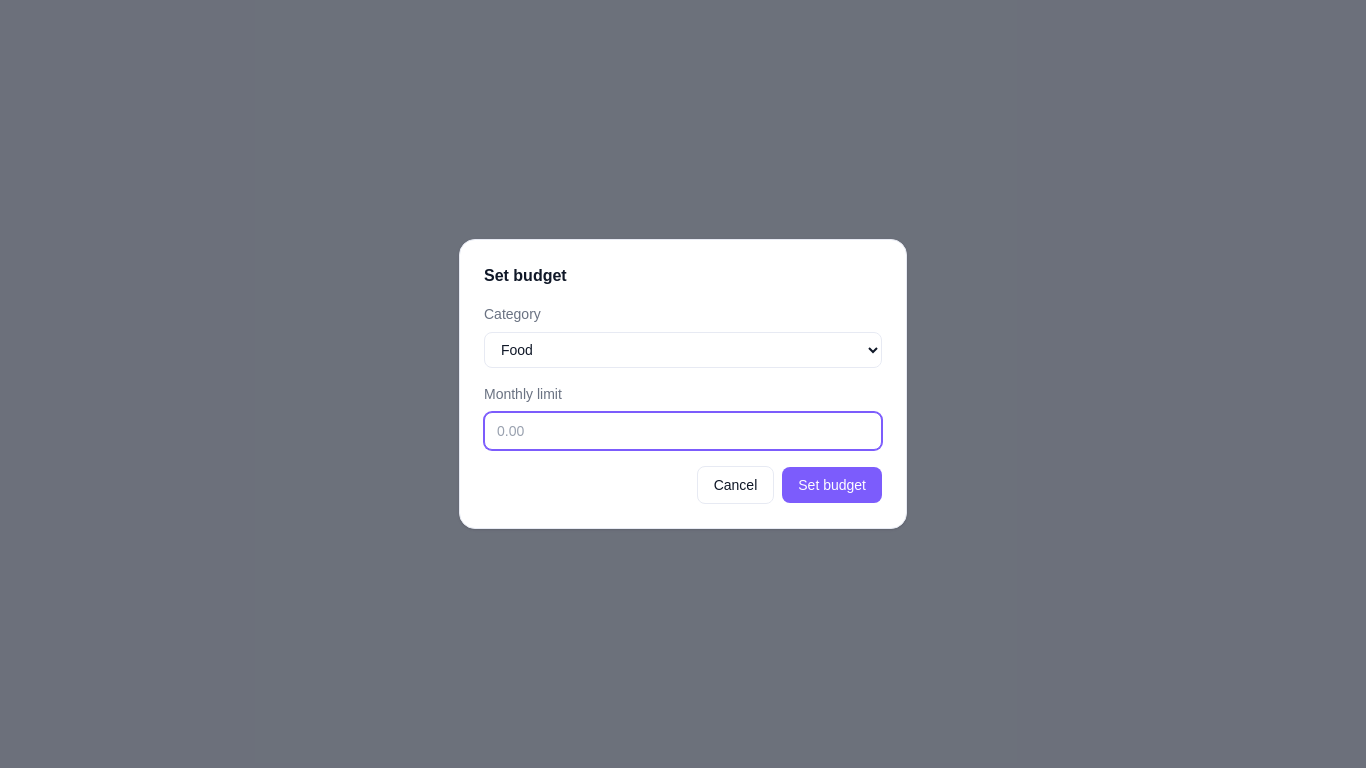
BudgetForm › shows server errors without closing
Type "100" into the field labelled "Monthly limit".
click(683, 431); type("100")  # box [484,412,882,450]
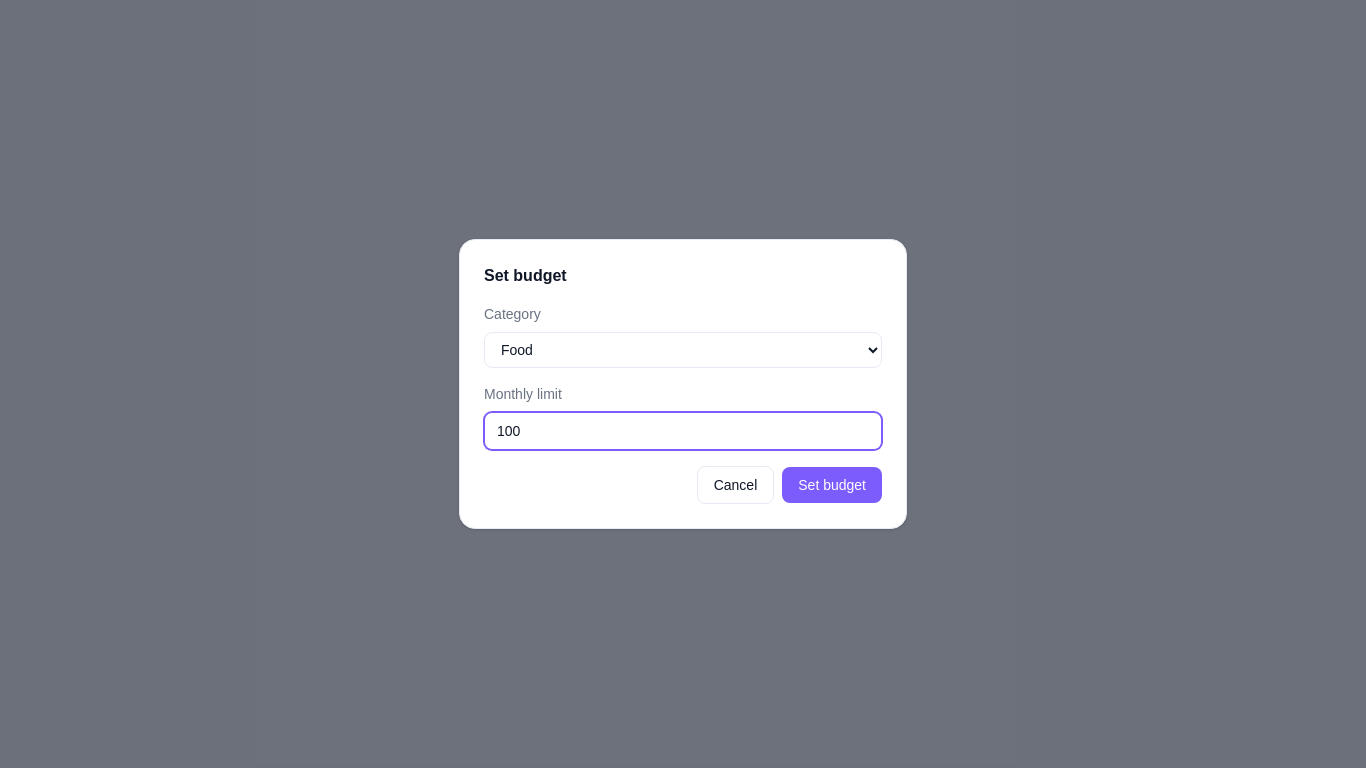
Click the button "Set budget".
click(832, 485)  # box [782,467,882,503]
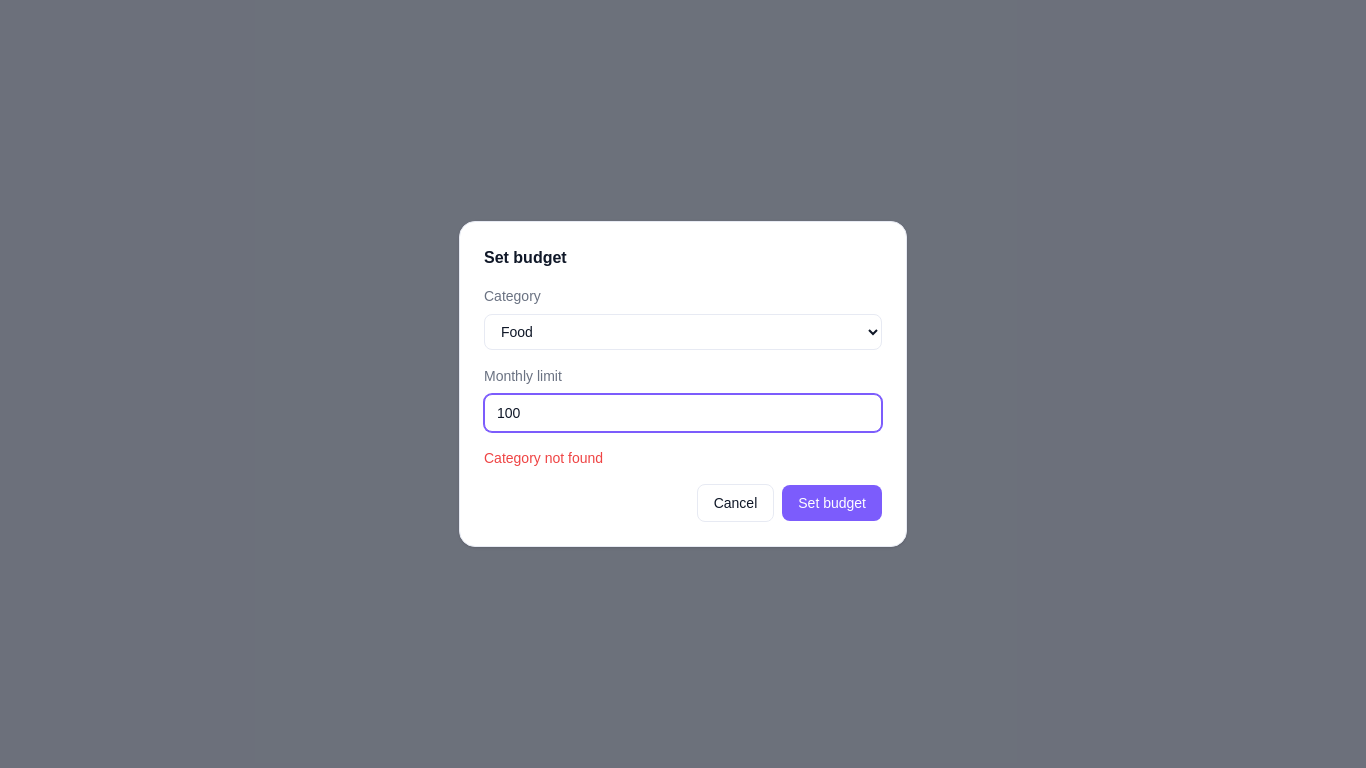
Expected: the message reads "Category not found", [484,450,603,466]
